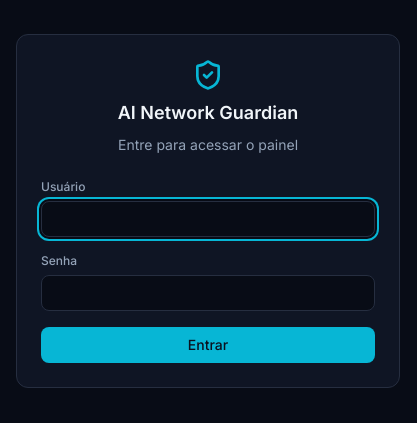
Test case: autenticação › mostra a mensagem do servidor quando as credenciais falham
Type "admin" into the field labelled "Usuário" at (208, 219), box [41,201,375,237]
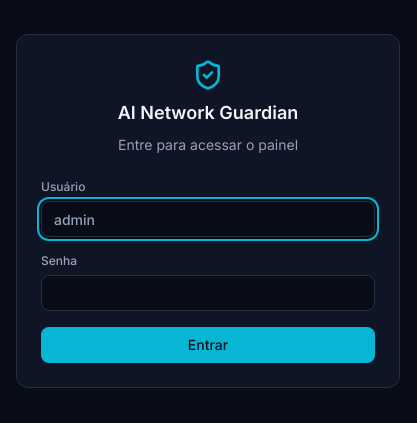
Type "errada" into the password field labelled "Senha" at (208, 293), box [41,275,375,311]
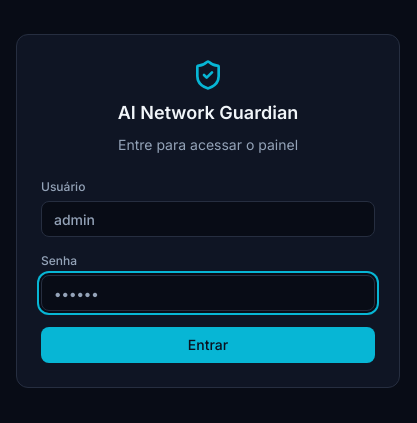
Click the button "Entrar" at (208, 345), box [41,327,375,363]
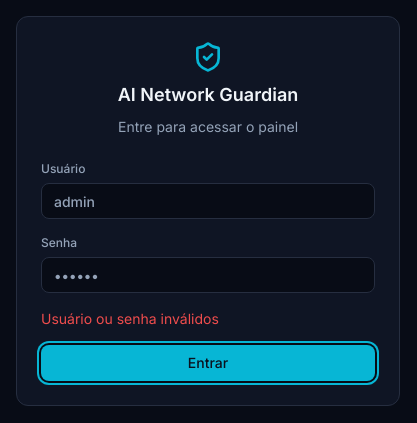
Expected: the message reads "Usuário ou senha inválidos", [41,310,219,327]
